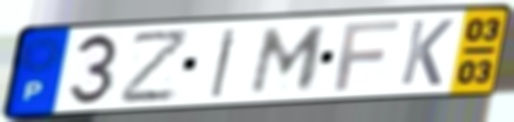3: (63, 30, 123, 110)
F: (331, 18, 403, 93)
I: (207, 26, 241, 101)
K: (396, 17, 457, 88)
M: (246, 24, 331, 97)
Z: (118, 26, 194, 107)
